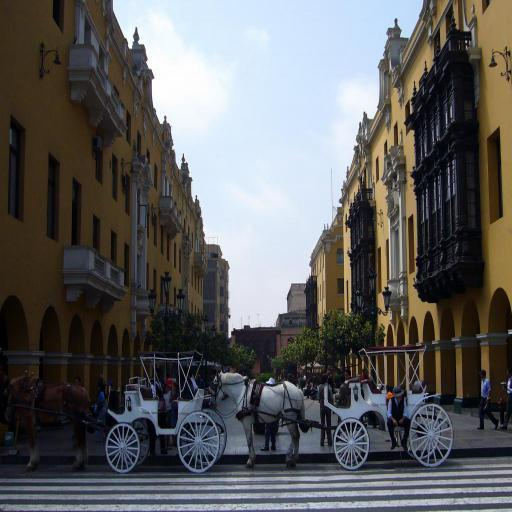horse: (208, 370, 306, 468), (6, 378, 94, 472)
